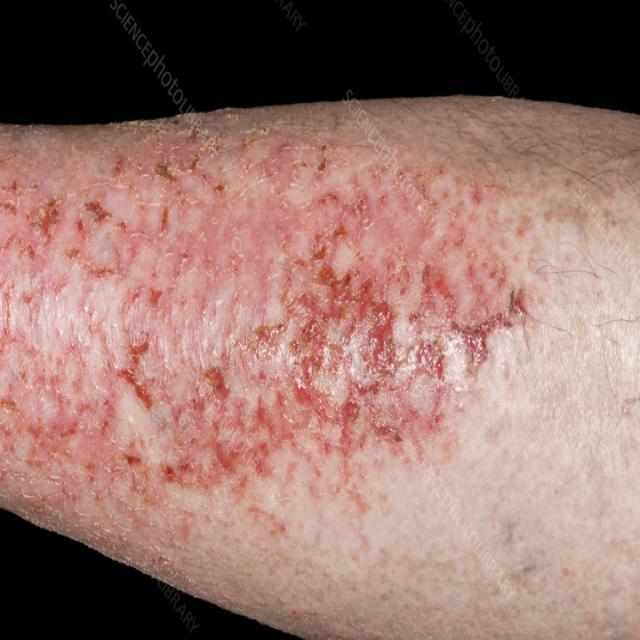Eczema: (0, 121, 529, 522)
